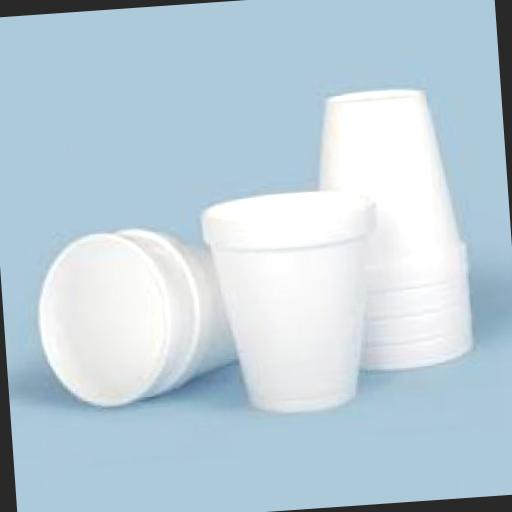paper: (306, 81, 474, 374), (194, 182, 388, 414), (314, 81, 467, 291), (26, 223, 198, 405), (118, 216, 242, 403)
